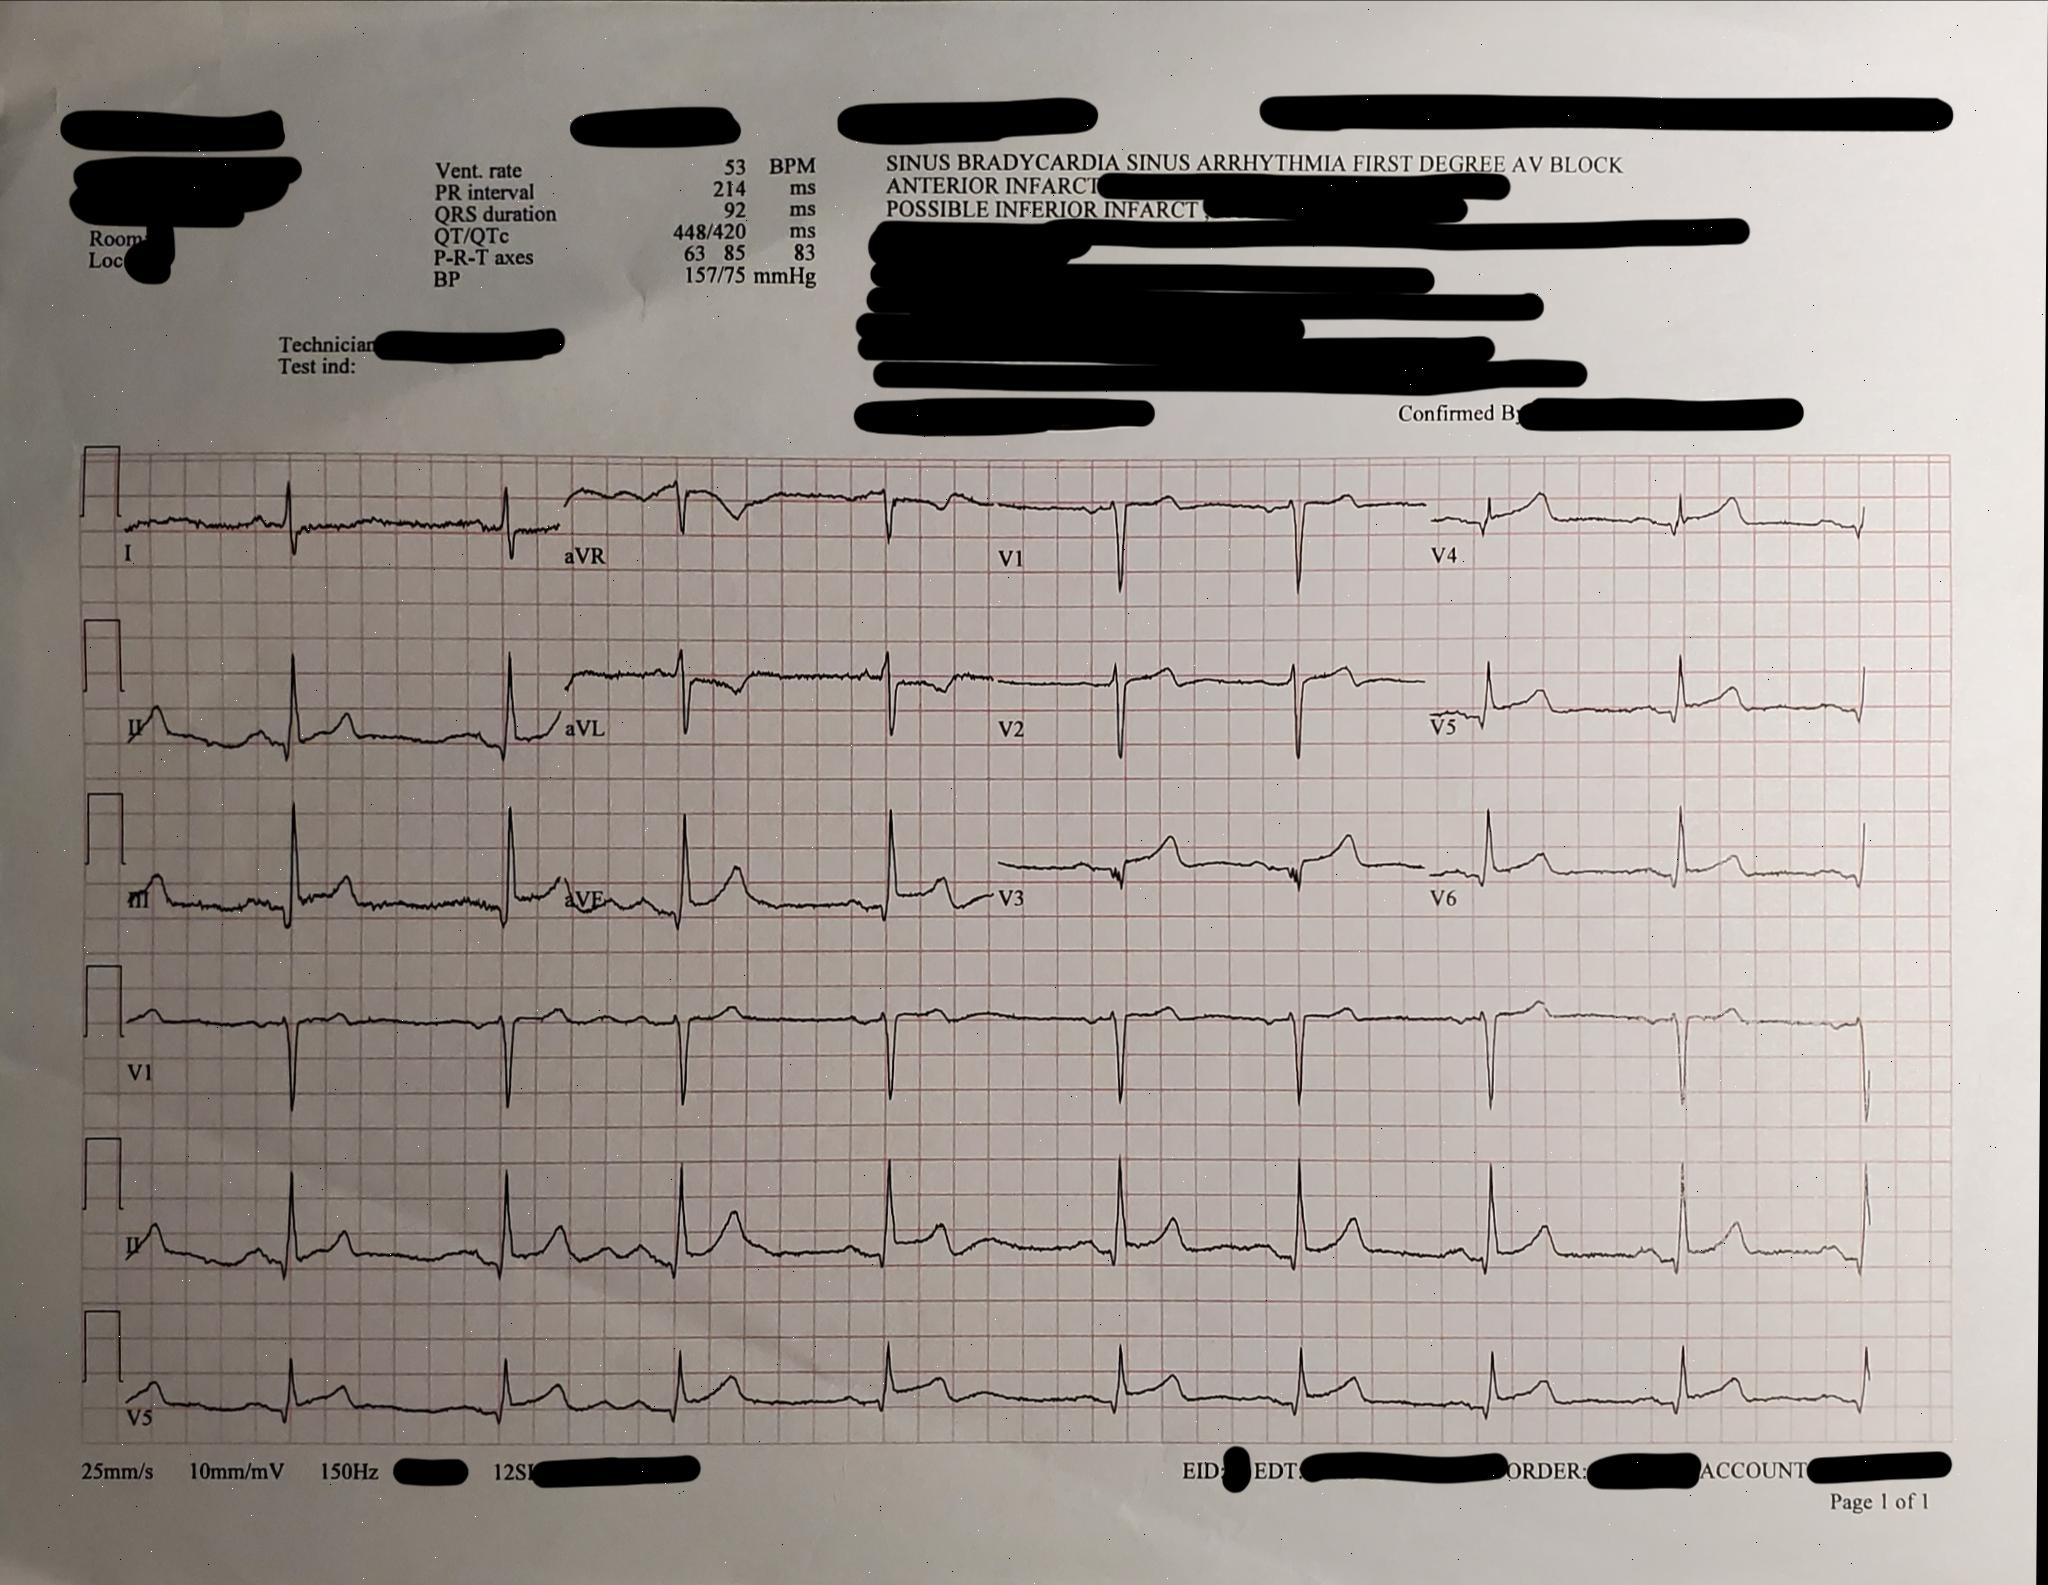Lead_I: (103, 443, 559, 585)
Lead_II: (108, 618, 561, 788)
Lead_III: (117, 801, 563, 957)
Lead_II_ext: (122, 1140, 1908, 1302)
Lead_V1: (972, 451, 1420, 617), (116, 974, 564, 1136)
Lead_V2: (971, 618, 1420, 784)
Lead_V3: (989, 788, 1429, 939)
Lead_V4: (1421, 455, 1890, 613)
Lead_V5: (1419, 617, 1890, 785)
Lead_V6: (1420, 784, 1889, 947)
Lead_aVF: (554, 788, 992, 968)
Lead_aVL: (558, 616, 968, 798)
Lead_aVR: (558, 452, 970, 592)
